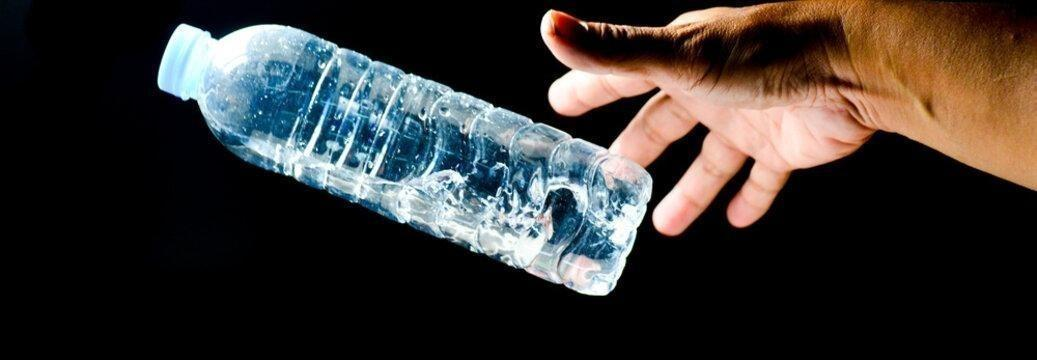bottle-plastic: (155, 19, 653, 297)
